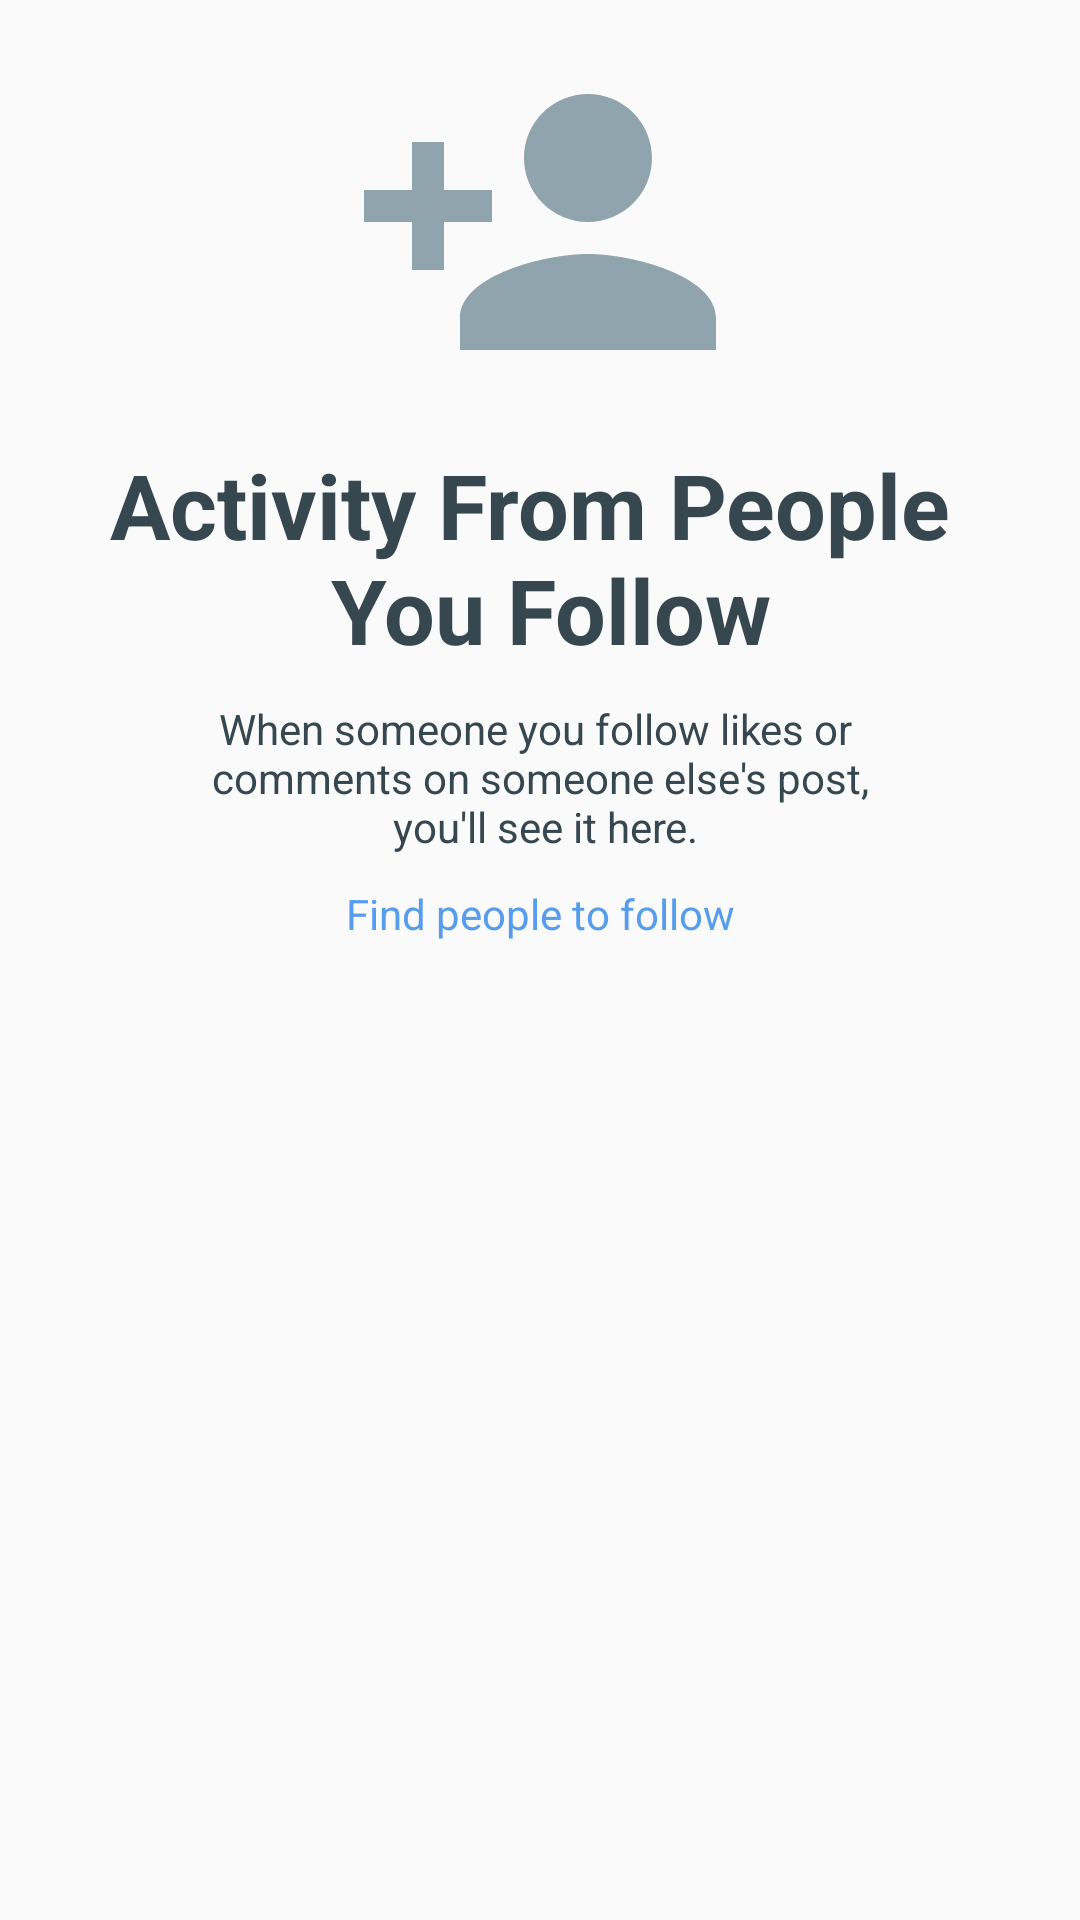

Icons on this 1080x1920 Android screen, each with its box as (x1, y1, x2, y2):
person add: (364, 94, 716, 350)
